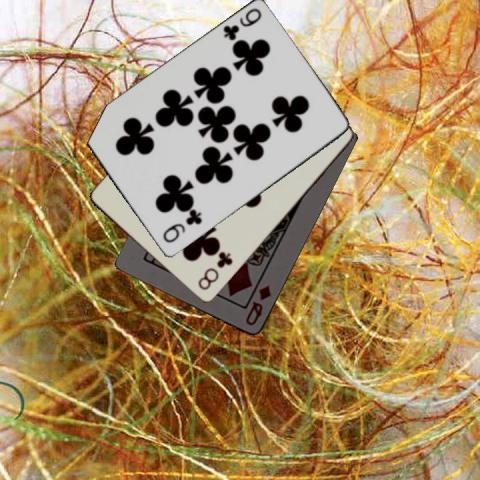8c: (194, 249, 235, 292)
9c: (220, 5, 263, 43), (159, 209, 204, 245)
Qd: (243, 282, 273, 328)
